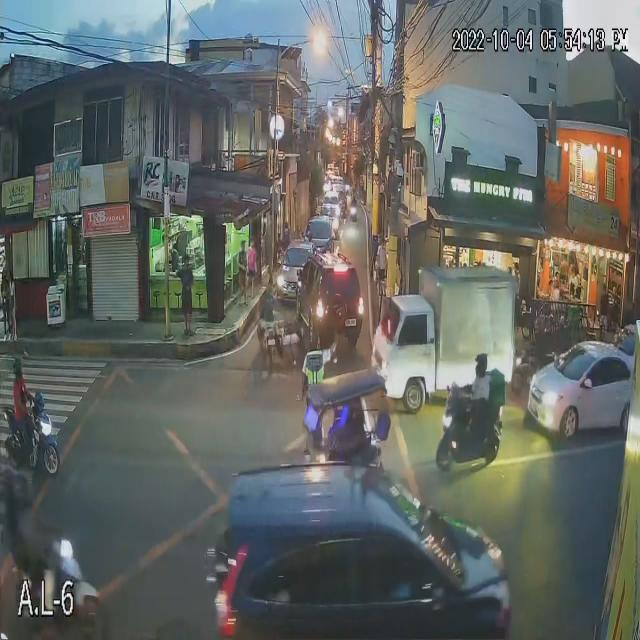helmet: (5, 475, 37, 509), (473, 352, 489, 379), (10, 355, 26, 379)
motorcycle: (10, 536, 112, 639), (432, 384, 509, 471), (3, 388, 66, 478)
rider: (8, 512, 51, 581), (8, 381, 35, 462), (467, 374, 491, 459)
